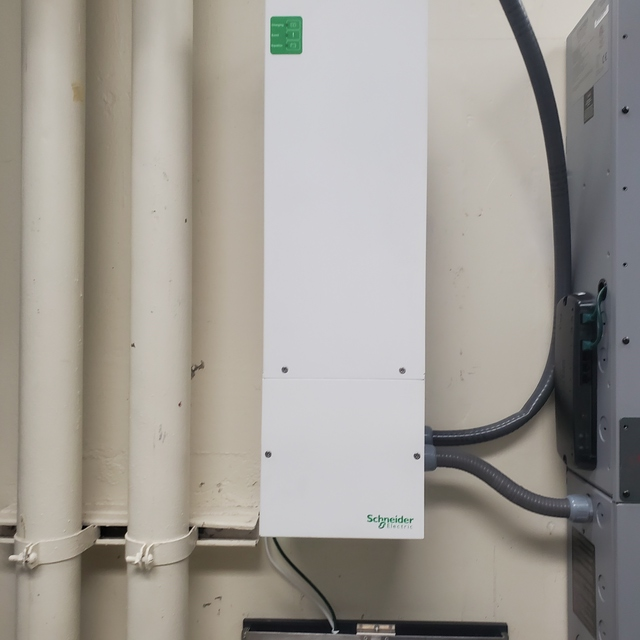charge_controller: (258, 1, 425, 540)
